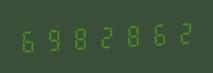eight: (117, 19, 141, 51), (67, 22, 91, 53)
nine: (42, 23, 66, 55)
six: (17, 24, 41, 56), (142, 18, 166, 49)
two: (92, 20, 116, 52), (167, 16, 191, 48)
